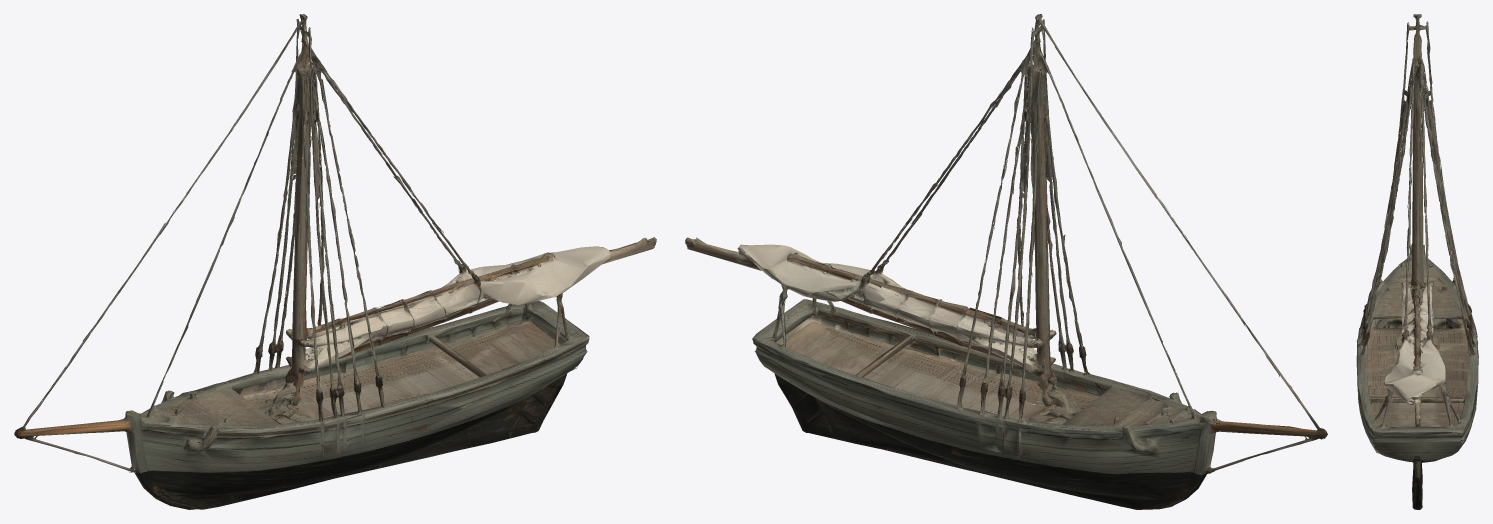
The model's file is ship-sloop.glb.
The picture shows the model from 3 angles, left to right: view 1: azimuth 30°, elevation 25°; view 2: azimuth 150°, elevation 25°; view 3: azimuth 270°, elevation 25°; orthographic projection. The views are drawn at different scales.
Parts seen in each view (by area): view 1: Mesh_0; view 2: Mesh_0; view 3: Mesh_0.
Boxes of the visible parts, bbox=[...] form: Mesh_0: bbox=[14, 14, 656, 509]; Mesh_0: bbox=[685, 14, 1327, 509]; Mesh_0: bbox=[1356, 14, 1478, 509].
Size of the model in its own units: 1.9 by 1.33 by 0.3722.
1 material, 1 textured.
